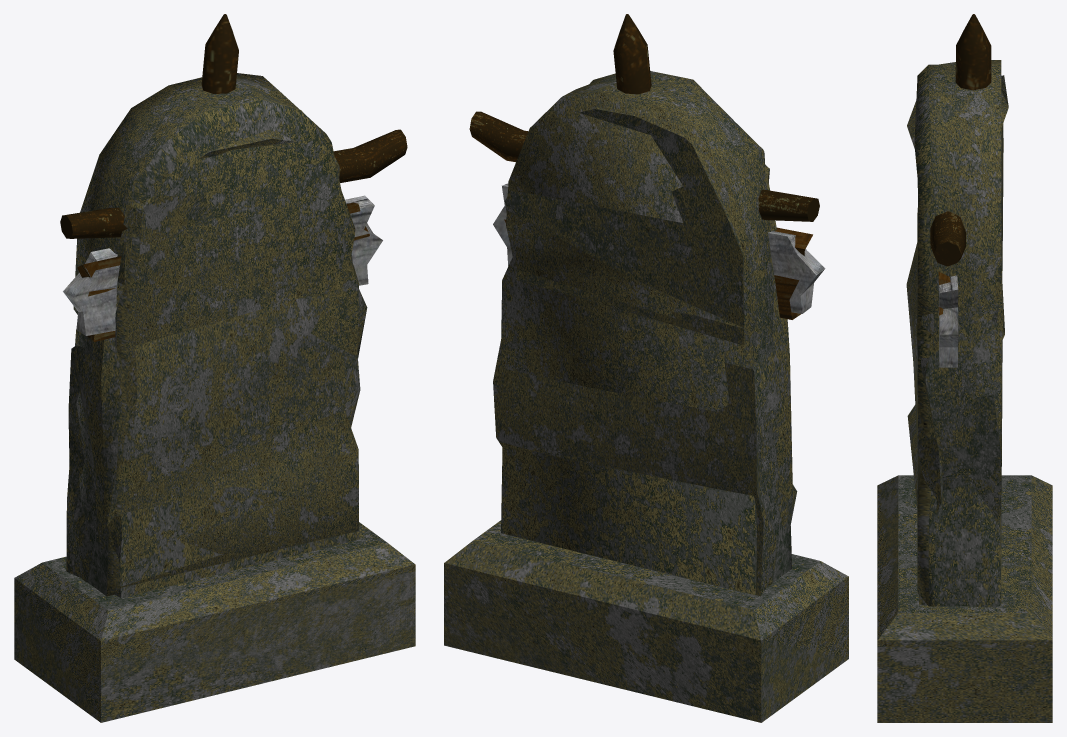
Rendered from SM_Gravestones.fbx.
The picture shows the model from 3 angles, left to right: view 1: azimuth 30°, elevation 25°; view 2: azimuth 150°, elevation 25°; view 3: azimuth 270°, elevation 25°; orthographic projection.
Visible parts, largest first — view 1: Cube.005, Cube.012, Cylinder.009, Cube.003, Cube.010; view 2: Cube.005, Cube.012, Cylinder.009, Cube.003, Cube.010; view 3: Cube.005, Cube.012, Cylinder.009, Cube.003.
Part boxes in pixels (x1,y1,x2,y2): Cube.005: [14, 73, 415, 722]; Cube.012: [66, 130, 415, 722]; Cylinder.009: [60, 14, 407, 238]; Cube.003: [63, 195, 382, 335]; Cube.010: [77, 202, 369, 341]; Cube.005: [444, 71, 848, 722]; Cube.012: [444, 107, 797, 695]; Cylinder.009: [469, 14, 819, 221]; Cube.003: [493, 183, 825, 313]; Cube.010: [504, 219, 812, 319]; Cube.005: [877, 60, 1052, 647]; Cube.012: [877, 75, 1052, 722]; Cylinder.009: [930, 14, 991, 266]; Cube.003: [938, 275, 958, 367].
Size of the model in its own units: 153 by 274 by 68.15.
